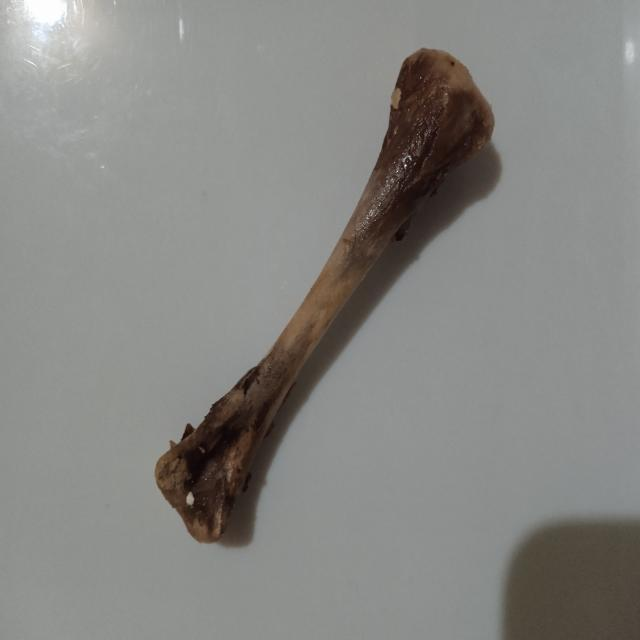bone: (150, 40, 502, 548)
